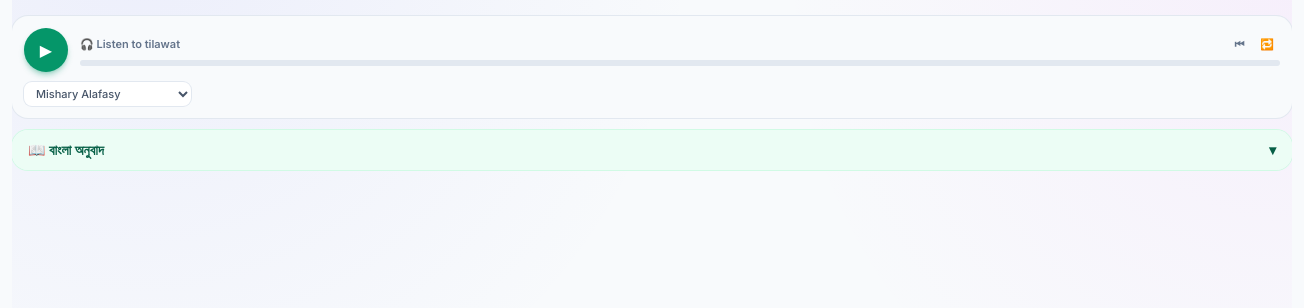
Test: Bangla translation is hidden until asked, then shown for each ayah
Expected: the text "বাংলা অনুবাদ 3300" is not shown
Click the button "📖 বাংলা অনুবাদ ▾".
click(66, 150)  # box [12,130,1292,170]
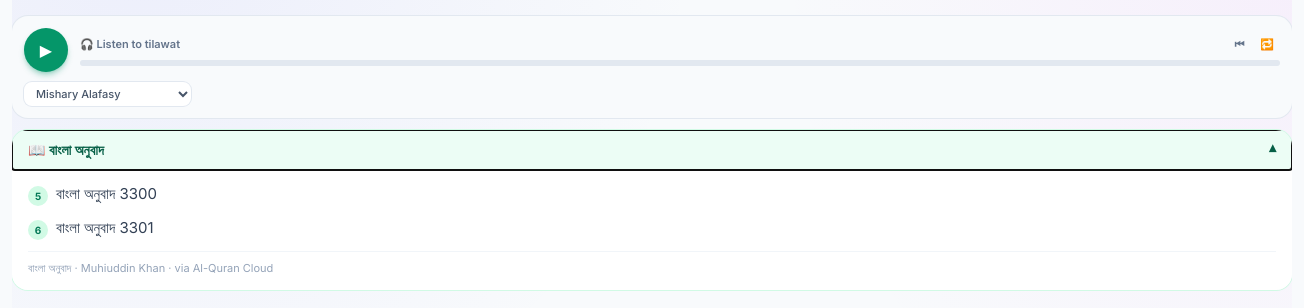
Result: the text "বাংলা অনুবাদ 3300" is shown at [56,182,157,206]
Result: the text "বাংলা অনুবাদ 3301" is shown at [56,216,154,241]
Result: the text "বাংলা অনুবাদ · Muhiuddin Khan · via Al-Quran Cloud" is shown at [28,251,1276,278]
